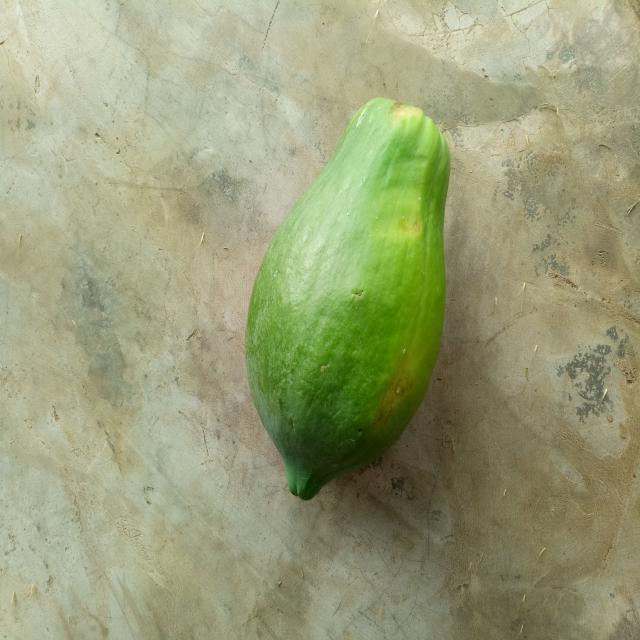Pepaya unrippen: (239, 94, 462, 510)
